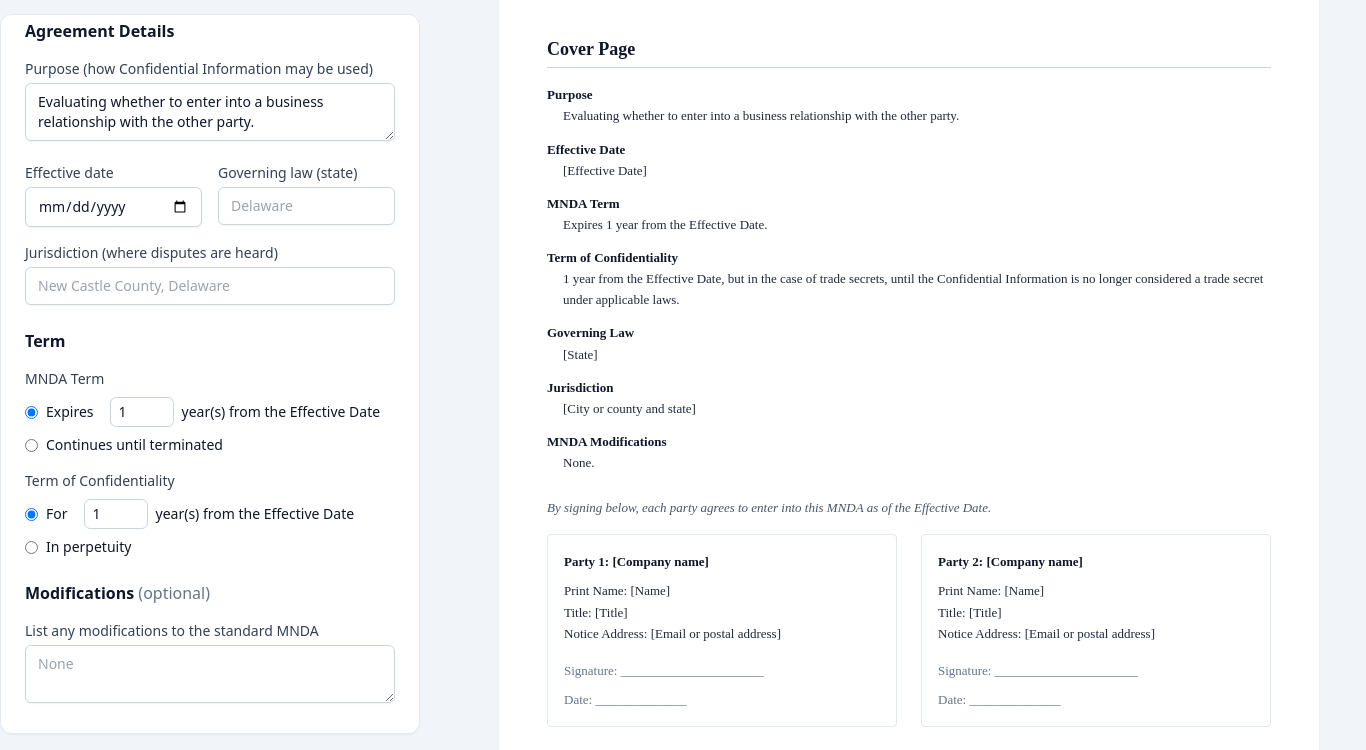
Test: NdaCreator (form drives the live preview) › switches the confidentiality term to perpetuity
(page scrolled)
Click the radio button labelled "In perpetuity": (32, 547) [25,540,38,554]
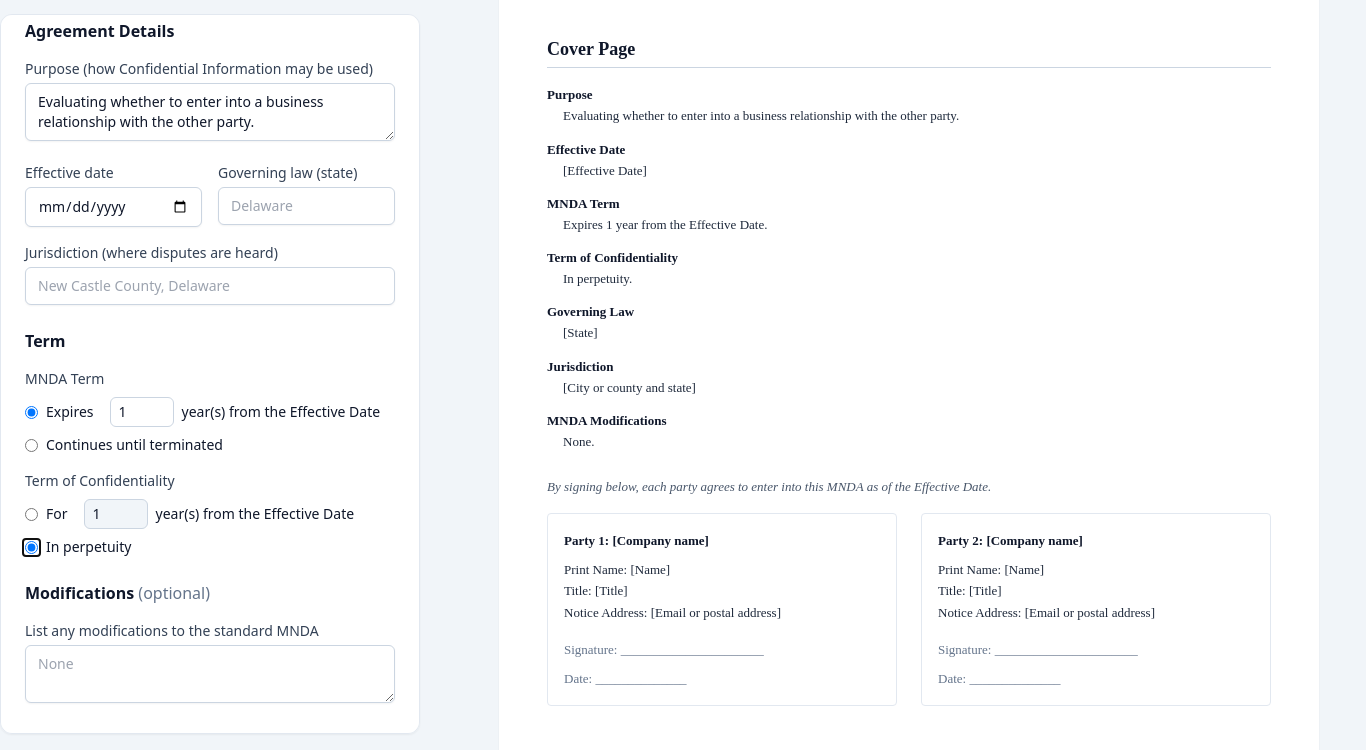
Check: the text "In perpetuity." is shown, box [563,271,632,286]
